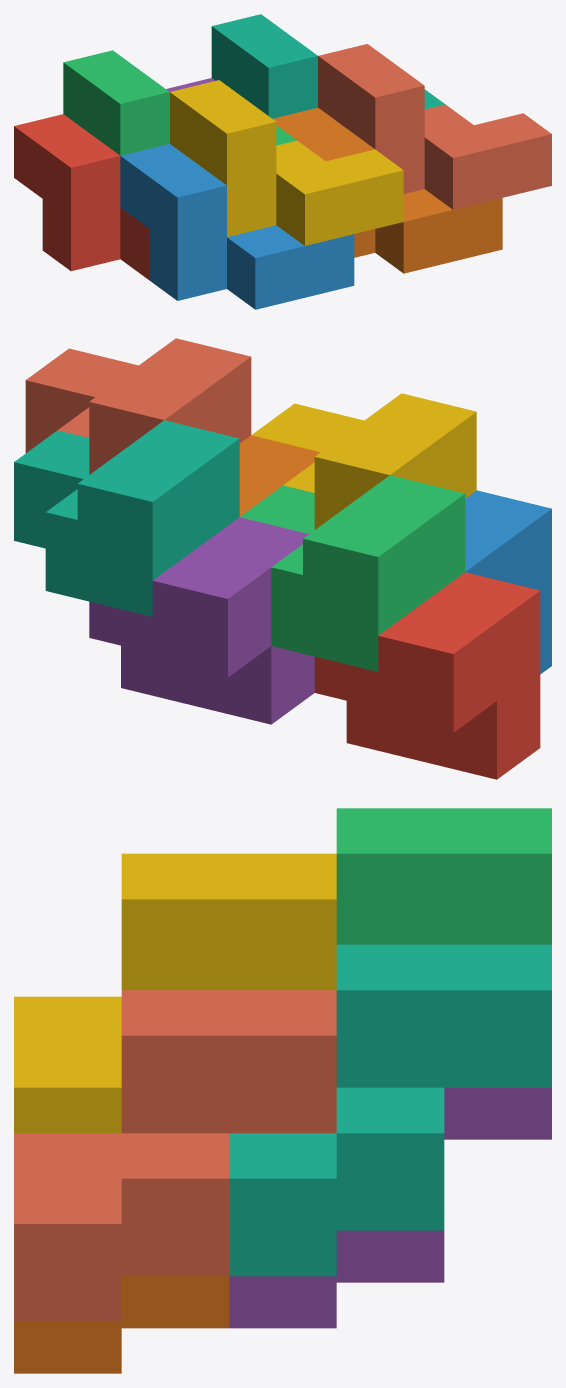
The model's file is tiling.obj.
The picture shows the model from 3 angles, top to bottom: view 1: azimuth 30°, elevation 25°; view 2: azimuth 150°, elevation 25°; view 3: azimuth 270°, elevation 25°; orthographic projection. The views are drawn at different scales.
Visible parts, largest first — view 1: copy_1_domain_4, copy_1_domain_2, copy_1_domain_8, copy_1_domain_1, copy_1_domain_6, copy_1_domain_3, copy_1_domain_7; view 2: copy_1_domain_1, copy_1_domain_7, copy_1_domain_3, copy_1_domain_5, copy_1_domain_8, copy_1_domain_4, copy_1_domain_2, copy_1_domain_6; view 3: copy_1_domain_8, copy_1_domain_7, copy_1_domain_4, copy_1_domain_3, copy_1_domain_5, copy_1_domain_6.
Part boxes in pixels (x1,y1,x2,y2): copy_1_domain_4: (170,80,403,245); copy_1_domain_2: (120,144,354,309); copy_1_domain_8: (318,44,551,209); copy_1_domain_1: (14,114,148,279); copy_1_domain_6: (272,107,502,273); copy_1_domain_3: (63,50,296,155); copy_1_domain_7: (211,14,444,118); copy_1_domain_1: (314,572,540,779); copy_1_domain_7: (14,420,239,616); copy_1_domain_3: (240,475,465,671); copy_1_domain_5: (89,517,314,724); copy_1_domain_8: (25,338,251,474); copy_1_domain_4: (251,393,476,529); copy_1_domain_2: (465,490,551,674); copy_1_domain_6: (239,435,320,516); copy_1_domain_8: (14,990,336,1321); copy_1_domain_7: (229,944,551,1276); copy_1_domain_4: (14,853,336,1133); copy_1_domain_3: (336,808,551,944); copy_1_domain_5: (229,1087,551,1328); copy_1_domain_6: (14,1276,229,1373).
Bounding box in the file's own units: 8 × 3 × 5.
